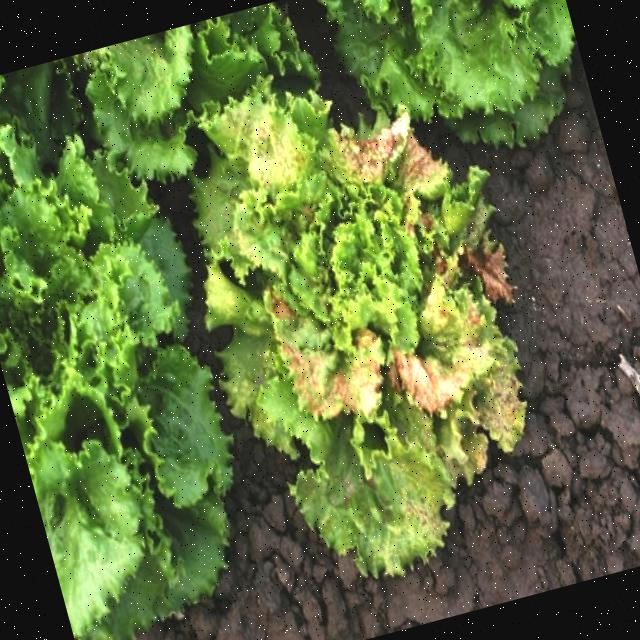Bacterial: (214, 103, 508, 504)
